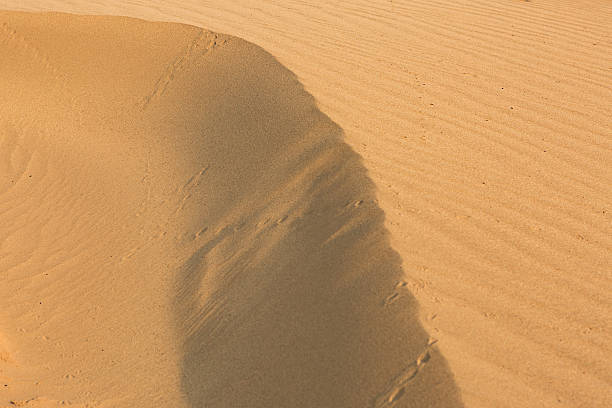animal_foot_print: (135, 145, 373, 244), (383, 284, 445, 407), (132, 25, 227, 90), (7, 9, 52, 64)
